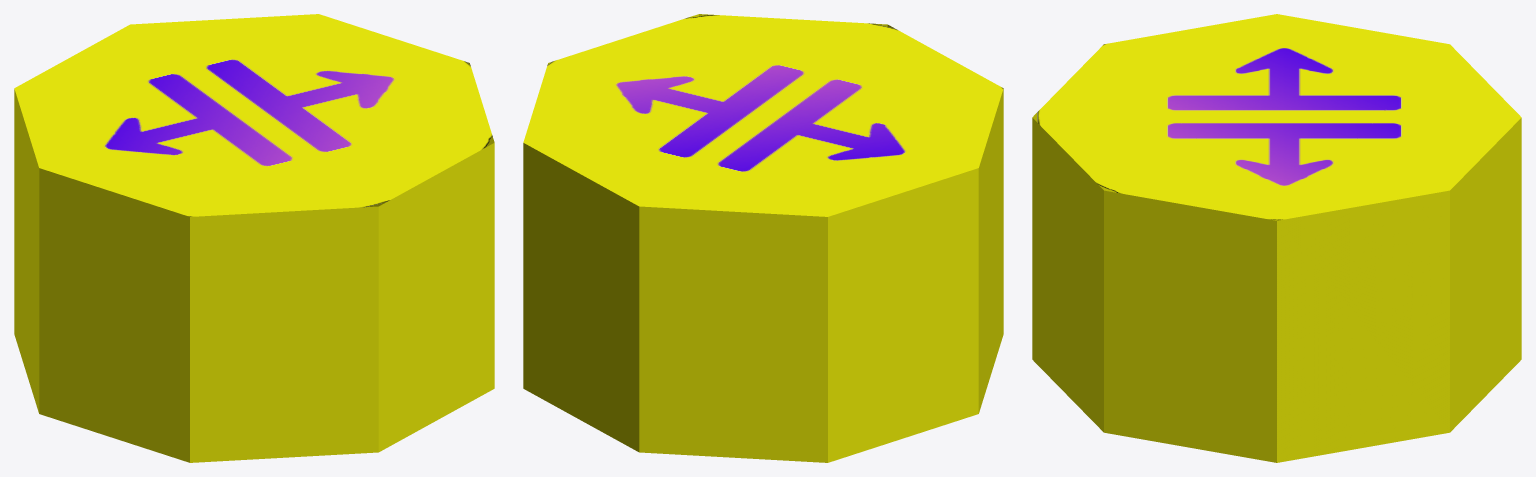
The model's file is item_expand.fbx.
3 views of the same model, side by side, from view 1: azimuth 30°, elevation 25°; view 2: azimuth 150°, elevation 25°; view 3: azimuth 270°, elevation 25° (orthographic).
Parts seen in each view (by area): view 1: Cube; view 2: Cube; view 3: Cube.
Part boxes in pixels (bbox=[...]): Cube: bbox=[14, 14, 494, 462]; Cube: bbox=[523, 14, 1003, 462]; Cube: bbox=[1032, 14, 1521, 462].
Bounding box in the file's own units: 200 × 109 × 200.
